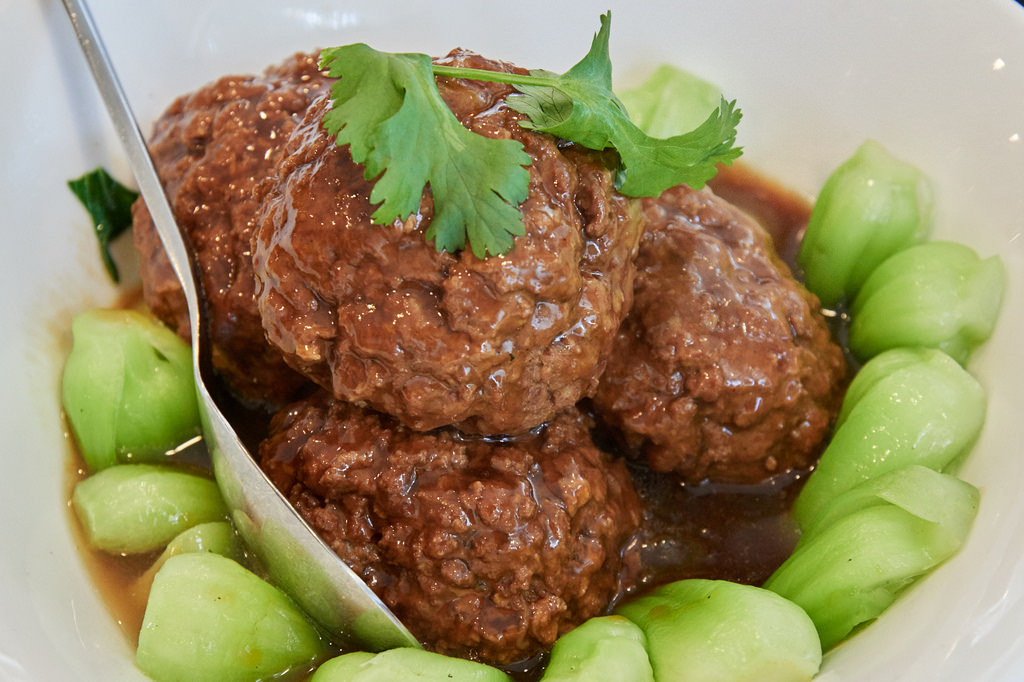meatballs: (219, 66, 824, 510)
